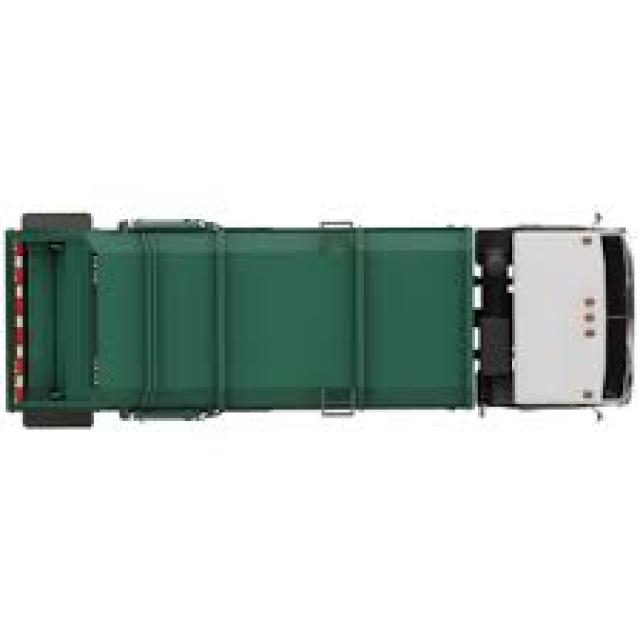truck: (3, 208, 638, 421)
